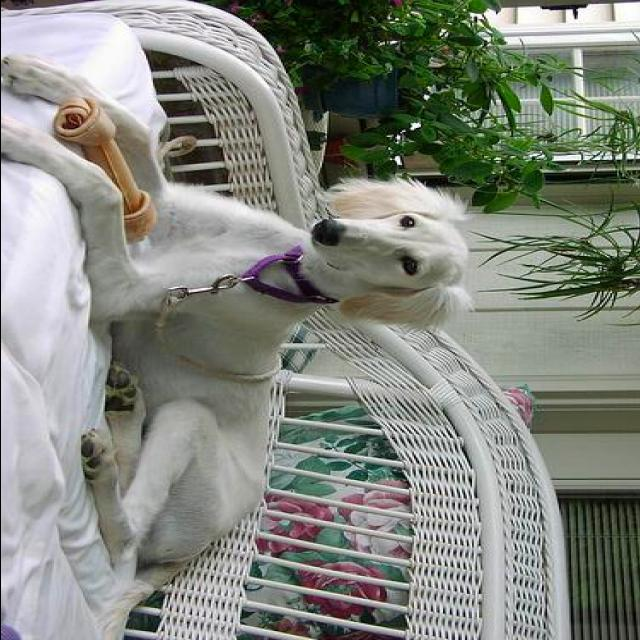saluki: (2, 54, 474, 630)
